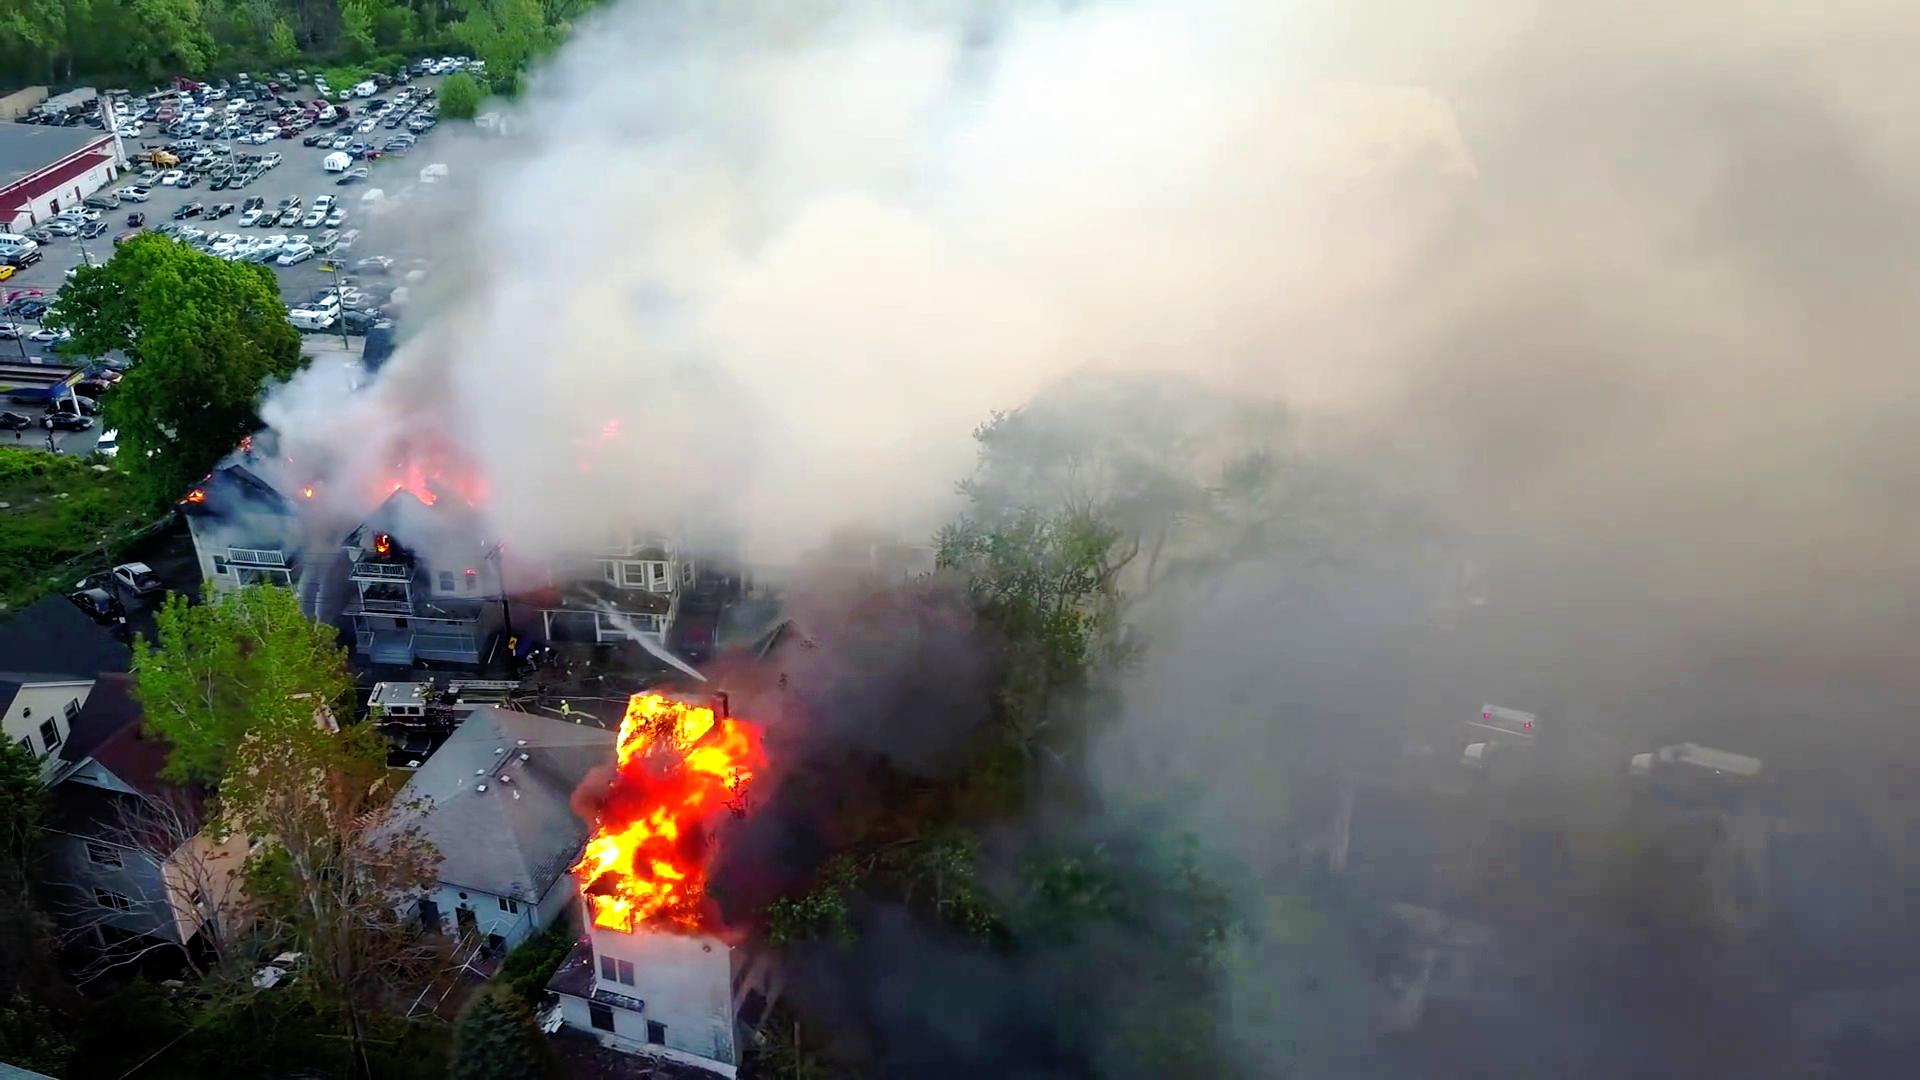fire: (600, 709, 711, 960)
smoke: (873, 357, 1226, 916)
